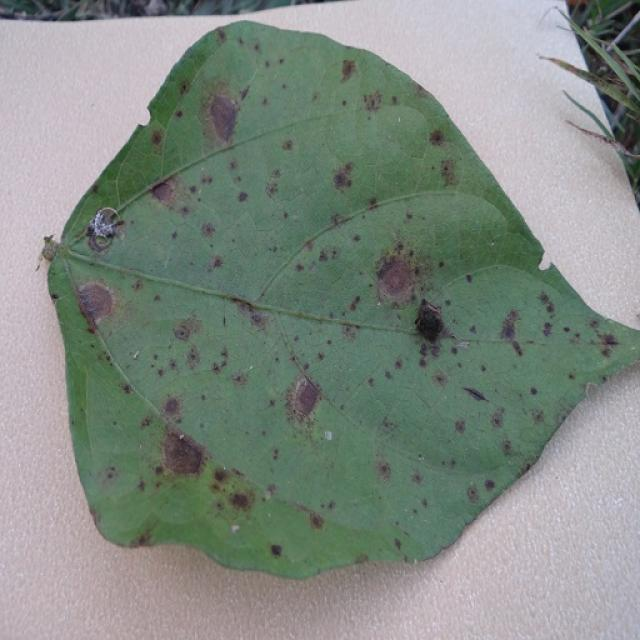Anthracnose: (70, 278, 120, 329), (161, 428, 205, 475), (376, 256, 417, 302), (208, 94, 240, 143), (290, 376, 321, 419), (414, 299, 445, 342), (234, 299, 265, 332), (173, 314, 201, 343), (332, 161, 356, 192), (151, 179, 177, 207), (209, 343, 230, 376), (499, 310, 520, 342), (87, 231, 114, 253), (439, 158, 458, 187), (98, 465, 120, 490), (362, 90, 382, 112), (229, 490, 250, 510), (462, 386, 488, 402), (340, 58, 357, 81), (538, 291, 555, 314), (375, 458, 391, 482), (90, 508, 105, 532), (163, 396, 180, 417), (491, 408, 506, 431), (428, 128, 446, 146), (149, 128, 165, 148), (186, 348, 200, 369), (329, 212, 347, 228), (200, 222, 216, 239), (136, 530, 153, 546), (310, 512, 325, 530), (432, 372, 448, 388), (231, 371, 247, 387), (342, 324, 358, 340), (213, 467, 228, 483), (266, 180, 279, 198), (531, 409, 545, 425), (318, 248, 332, 263), (467, 486, 480, 502), (602, 333, 619, 345), (454, 419, 466, 435), (542, 321, 554, 337), (349, 296, 361, 312), (119, 382, 133, 395), (216, 29, 228, 44), (239, 85, 250, 101), (281, 138, 294, 151), (210, 256, 223, 269), (131, 278, 144, 291), (179, 81, 190, 96), (136, 478, 147, 492), (270, 544, 282, 556), (237, 190, 248, 203), (228, 158, 239, 171), (200, 174, 213, 185), (355, 553, 369, 563), (484, 479, 495, 491), (367, 197, 378, 208), (394, 358, 403, 370), (394, 538, 402, 551), (295, 262, 305, 272), (384, 370, 393, 380), (50, 292, 59, 301), (188, 185, 197, 194), (352, 234, 361, 243), (261, 97, 269, 107), (253, 43, 261, 53), (530, 387, 538, 396), (171, 231, 178, 241), (175, 110, 183, 118), (153, 294, 161, 302), (466, 274, 473, 283), (562, 325, 571, 332), (341, 100, 347, 107)
Blackgram: (49, 22, 639, 578)
